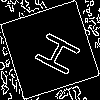H: (25, 25, 82, 79)
